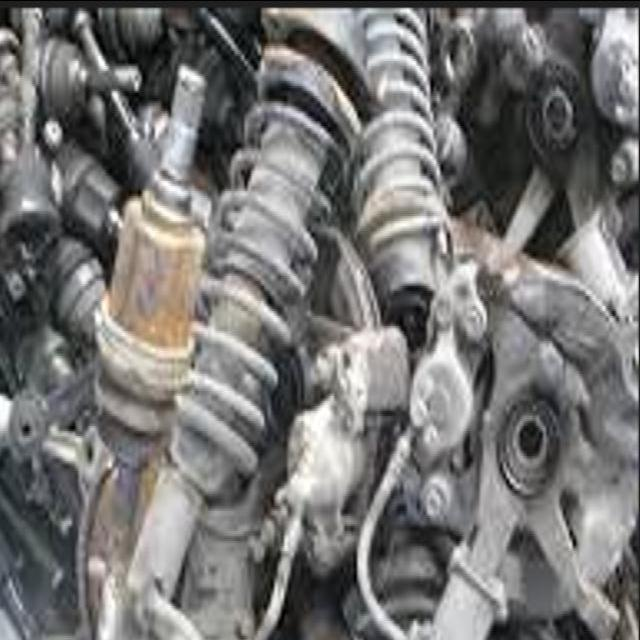shock absorber: (128, 8, 370, 601), (352, 8, 445, 356)
